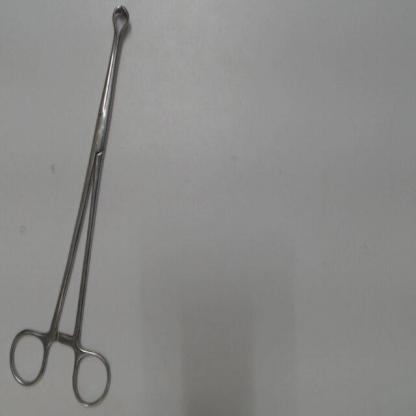8 Babcock Tissue Forceps: (3, 3, 135, 410)
